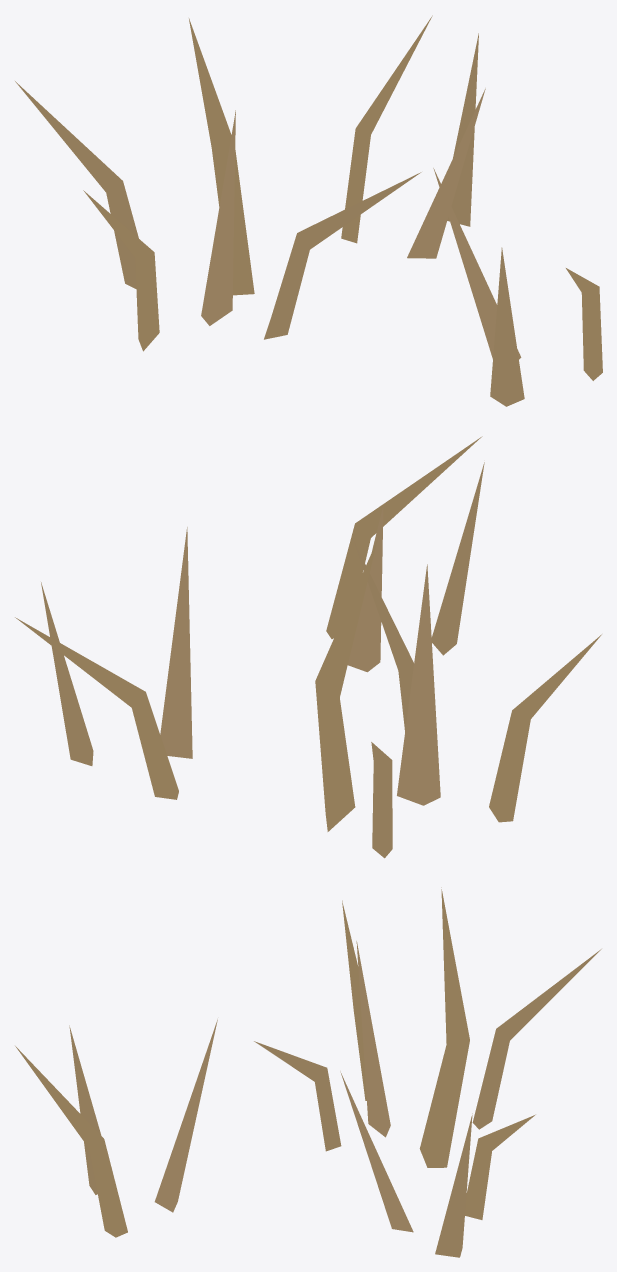
The model's file is Grass3D_b_07.fbx.
3 renders of one model, top to bottom at view 1: azimuth 30°, elevation 25°; view 2: azimuth 150°, elevation 25°; view 3: azimuth 270°, elevation 25°, orthographic. The views are drawn at different scales.
Parts seen in each view (by area): view 1: Grass3D_b_07; view 2: Grass3D_b_07; view 3: Grass3D_b_07.
Boxes of the visible parts, bbox=[...] form: Grass3D_b_07: bbox=[15, 15, 602, 406]; Grass3D_b_07: bbox=[15, 436, 601, 858]; Grass3D_b_07: bbox=[15, 887, 601, 1257].
Size of the model in its own units: 1.17 by 0.6976 by 1.43.
